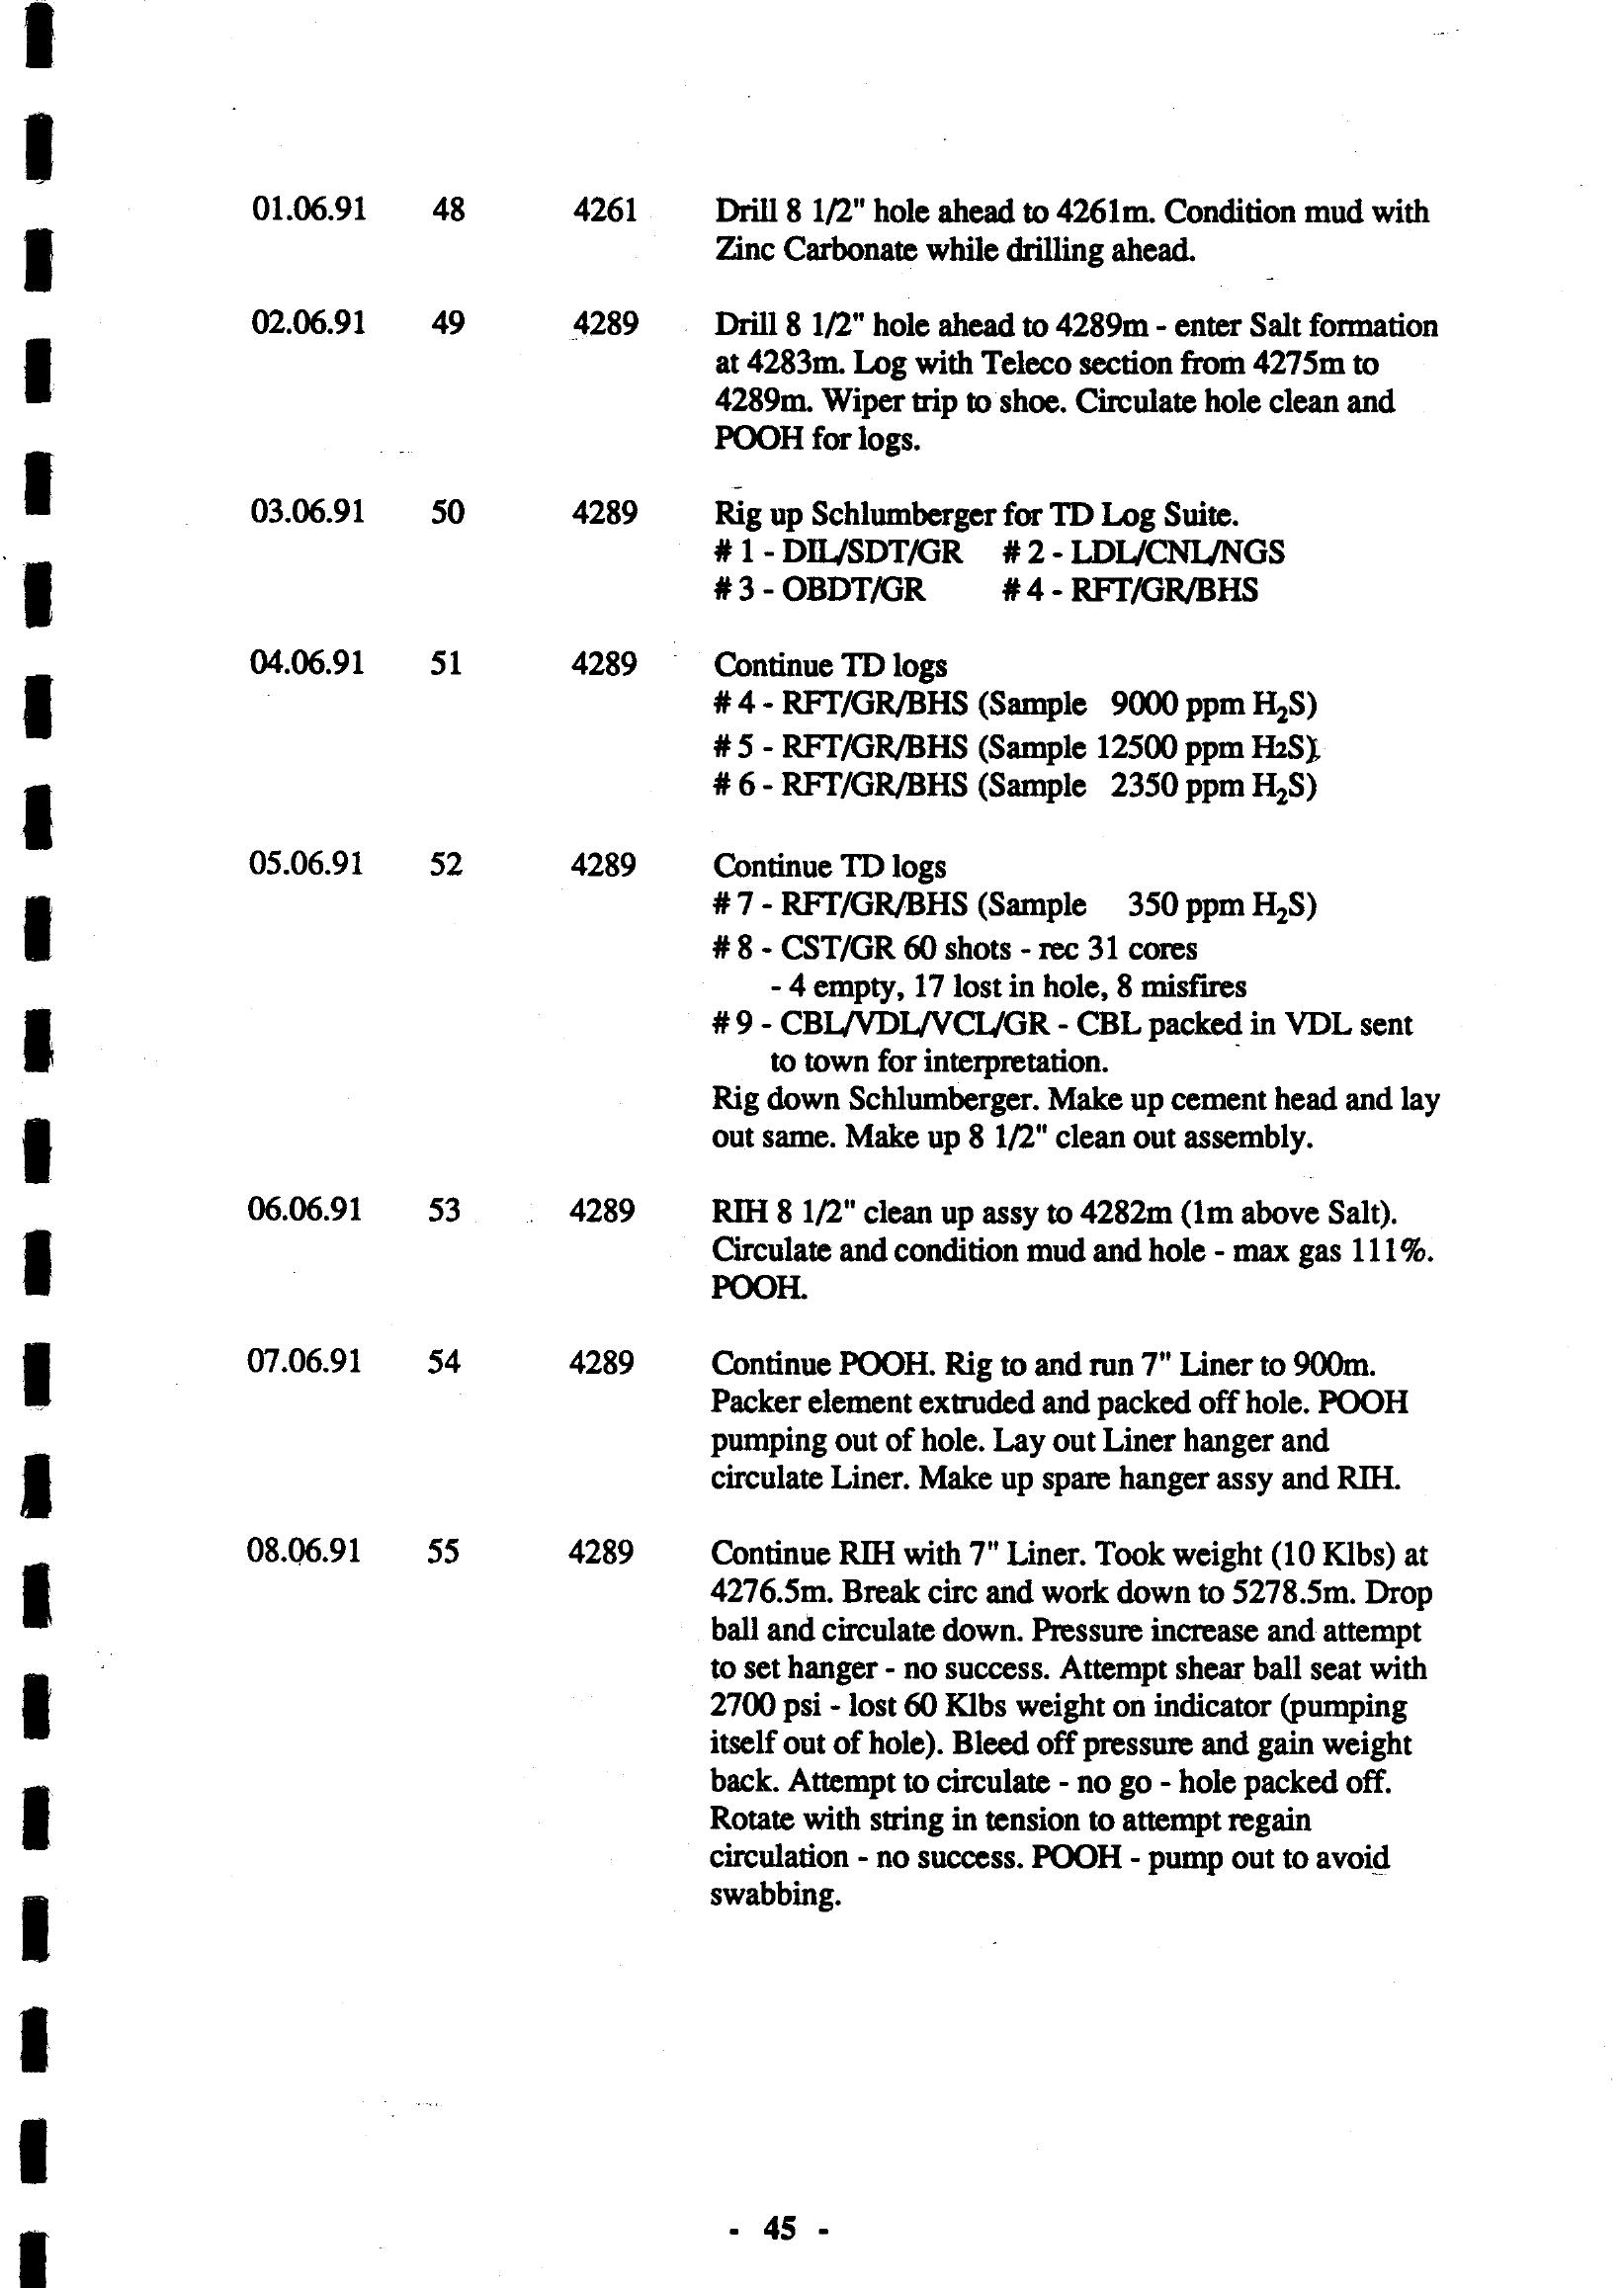text: (178, 141, 1503, 1947)
